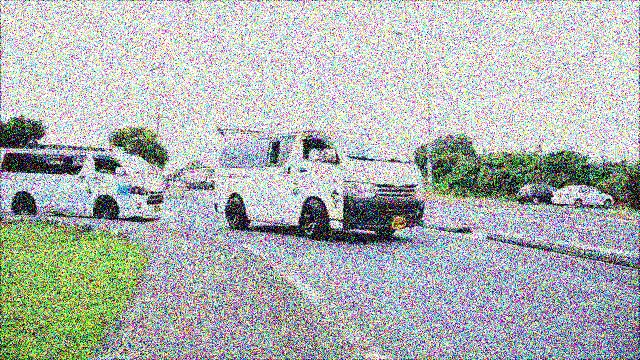van: (213, 127, 427, 240), (0, 146, 174, 222)
